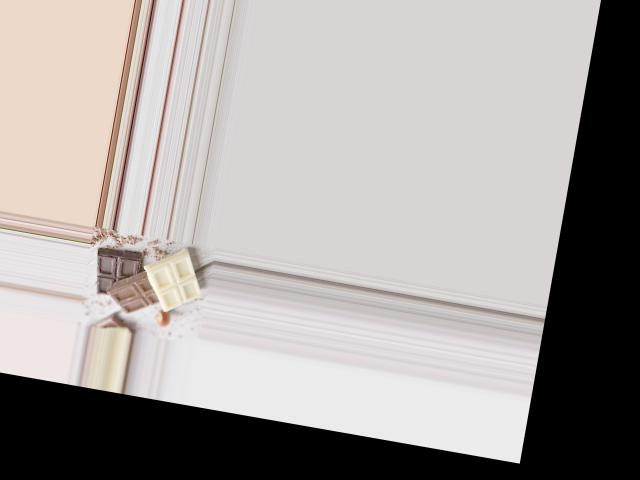chocolate: (82, 239, 207, 325)
